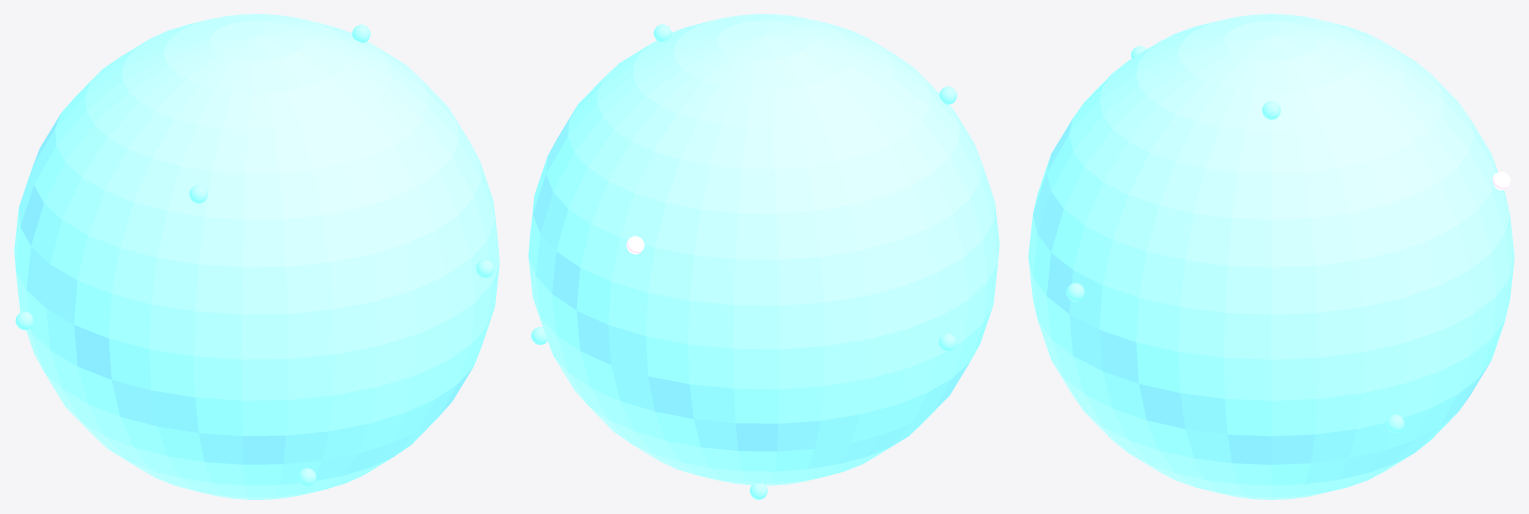
The model's file is facility-globe.glb.
3 views of the same model, side by side, from view 1: azimuth 30°, elevation 25°; view 2: azimuth 150°, elevation 25°; view 3: azimuth 270°, elevation 25° (orthographic). The views are drawn at different scales.
Visible parts, largest first — view 1: GlobeWire; view 2: GlobeWire; view 3: GlobeWire.
Part boxes in pixels (x1,y1,x2,y2): GlobeWire: (14,14,499,499); GlobeWire: (528,14,999,485); GlobeWire: (1028,14,1514,499).
Size of the model in its own units: 2.63 by 2.58 by 2.58.
